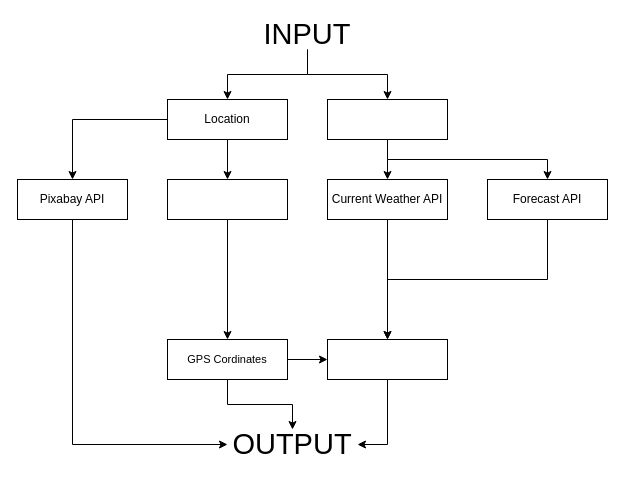
The diagram is 625 pixels wide and 479 high, and some of its shapes have lost their labels. The centre of each missing label's shape, as x and y in pixels:
"Check Date" goes at [387,119].
"Geonames API" goes at [227,199].
"Weatherbit API" goes at [387,359].
